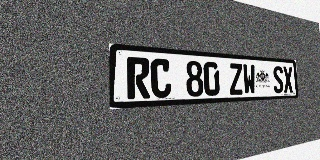0: (203, 61, 220, 96)
8: (186, 60, 204, 97)
C: (150, 58, 172, 98)
R: (127, 57, 150, 99)
S: (273, 66, 284, 93)
W: (242, 64, 256, 94)
X: (283, 66, 293, 93)
Z: (229, 63, 243, 95)
